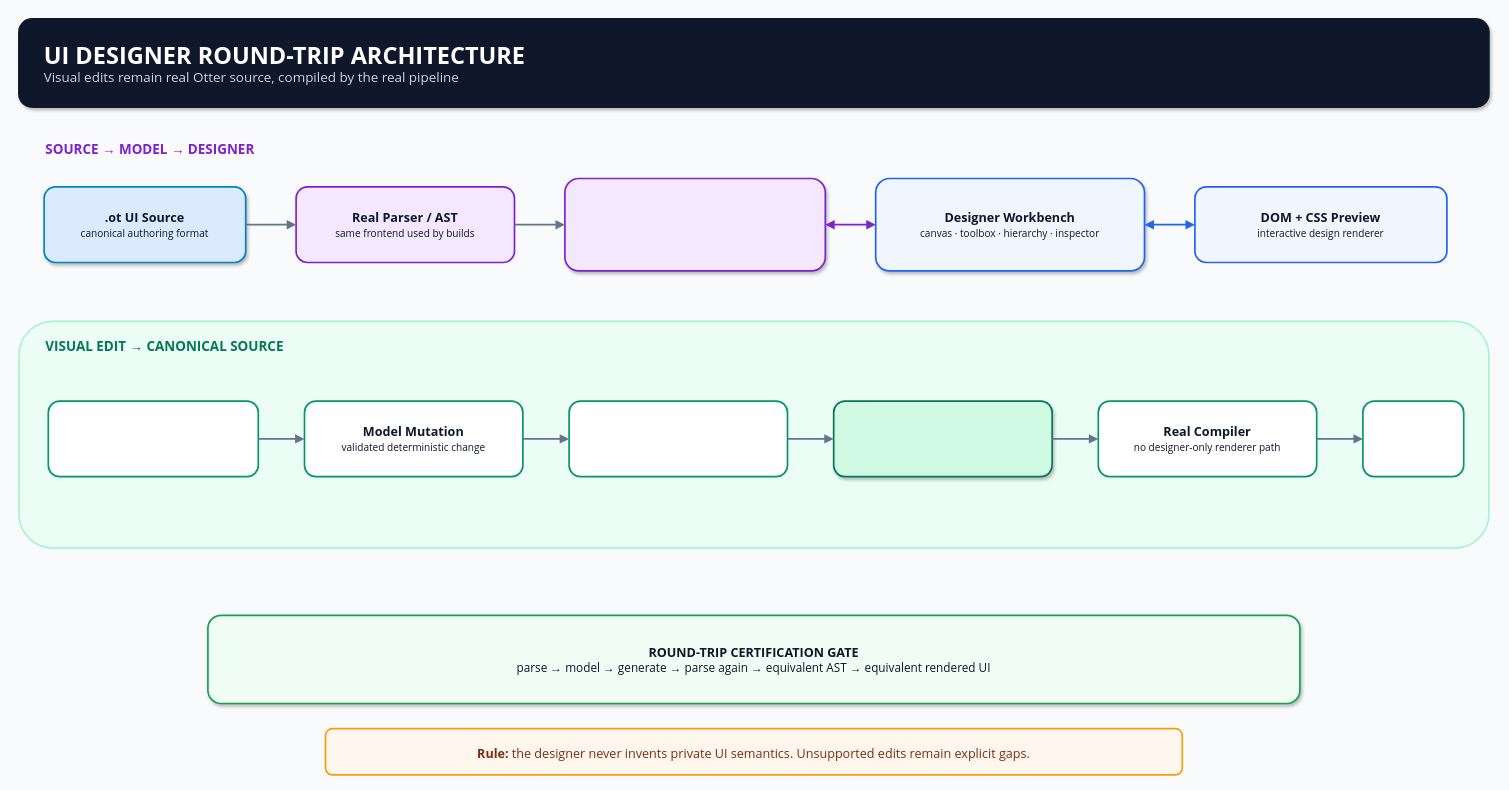
Some shapes in this 1509 by 790 pixel diagram are drawn without their labels. Here are the shapes that lost their labels. From the top down, the centre of each, then its label:
point (695, 225): Otter UI Model resources · properties · hierarchy · events
point (153, 438): Drag / Drop / Edit one explicit user operation
point (678, 438): Otter Generator stable formatting + ordering
point (943, 439): Canonical .ot readable source saved to disk
point (1413, 438): Rendered UI same behavior and structure
